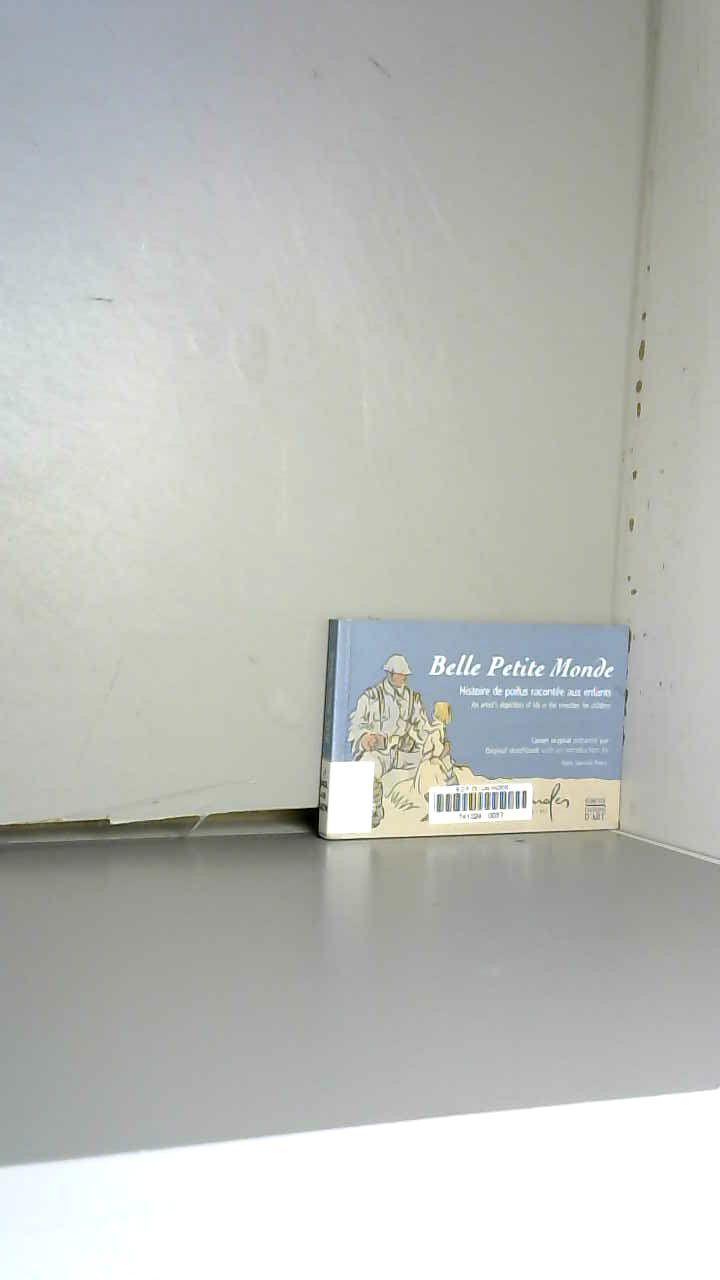book: (293, 586, 661, 868)
